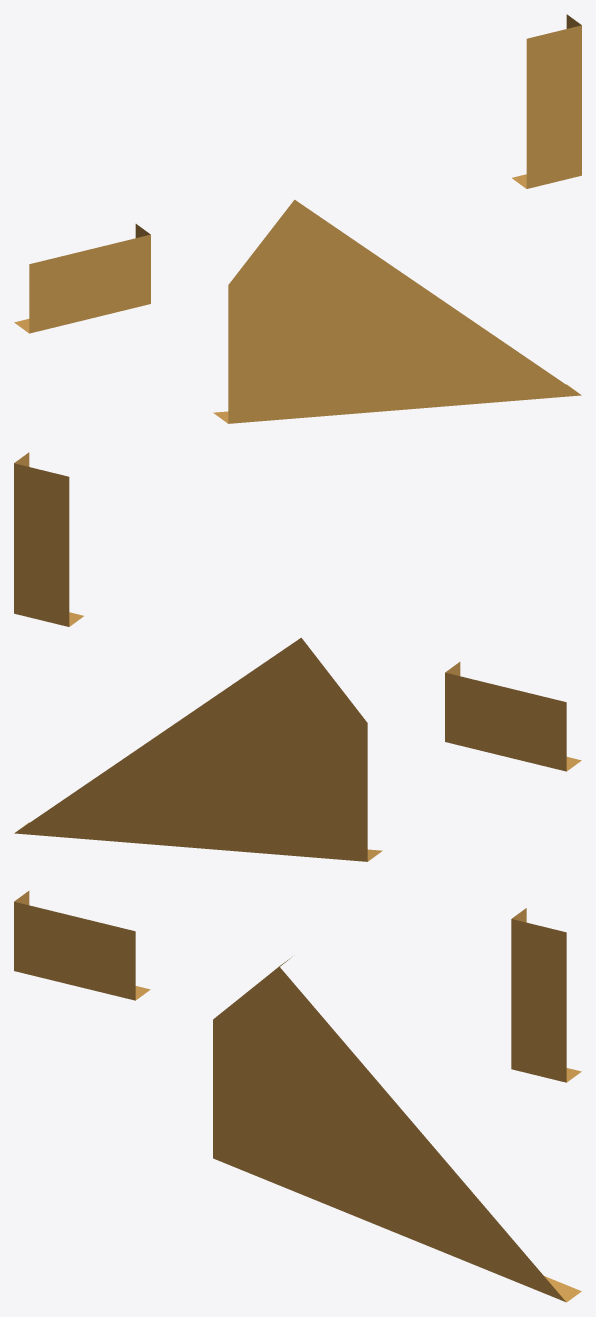
File: indium_monogram_3d.glb
3 views of the same model, one above another, from view 1: azimuth 30°, elevation 25°; view 2: azimuth 150°, elevation 25°; view 3: azimuth 330°, elevation 25° (orthographic).
Parts seen in each view (by area): view 1: world; view 2: world; view 3: world.
Boxes of the visible parts, box(x1,y1,x2,y2) form: world: box(14, 14, 581, 423); world: box(14, 452, 581, 861); world: box(14, 891, 581, 1302).
Bounding box in the file's own units: 1.6 × 1.02 × 0.0768.
